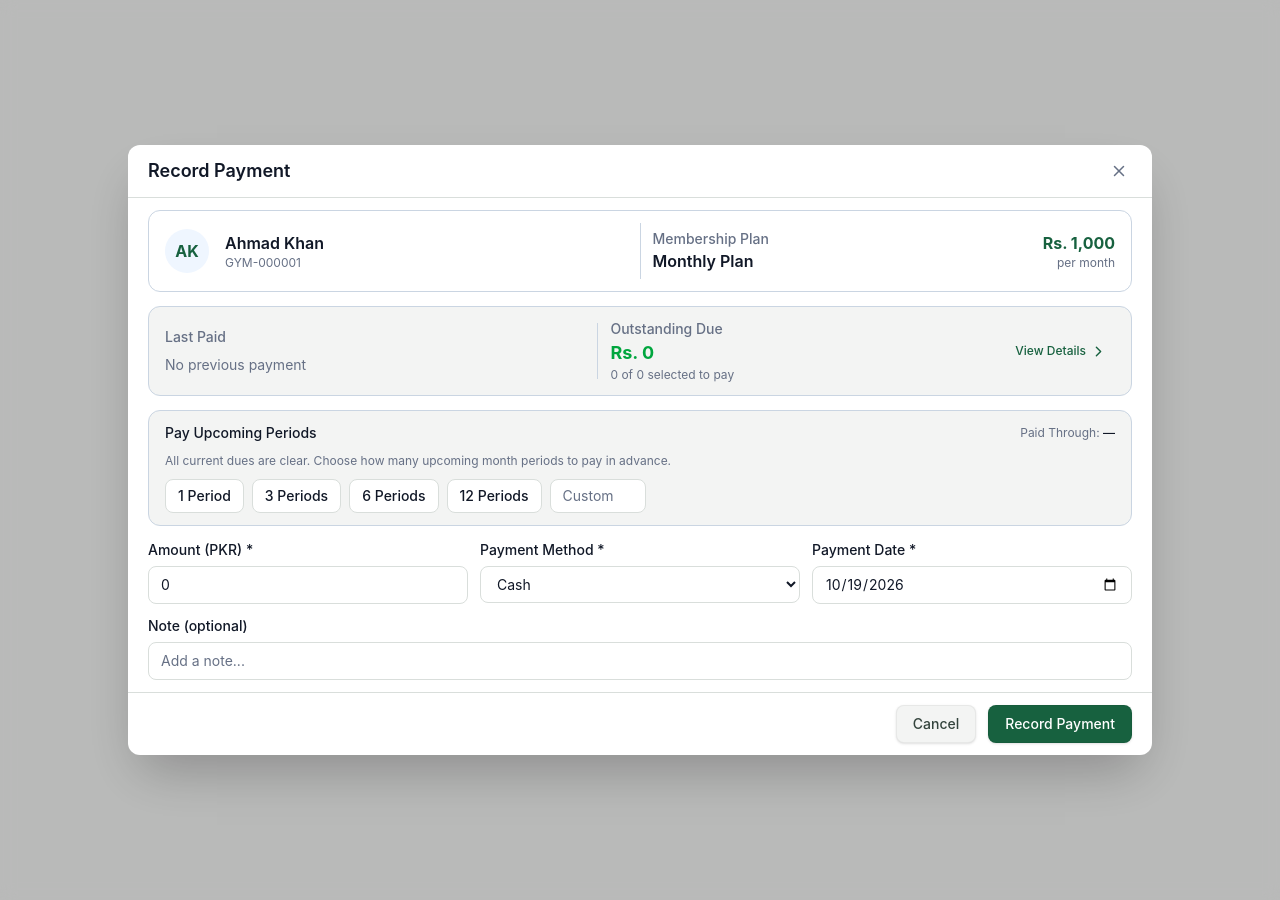
it: RecordPaymentModal period selection › offers upcoming periods to a fully paid member and records the advance payment
The image size is (1280, 900).
Expected: the text "Pay Upcoming Periods" is shown, [165, 423, 317, 443]
Expected: the button "Record Payment" is enabled, [988, 705, 1132, 743]
Click the button "1 Period" at (204, 496), box [165, 479, 244, 513]
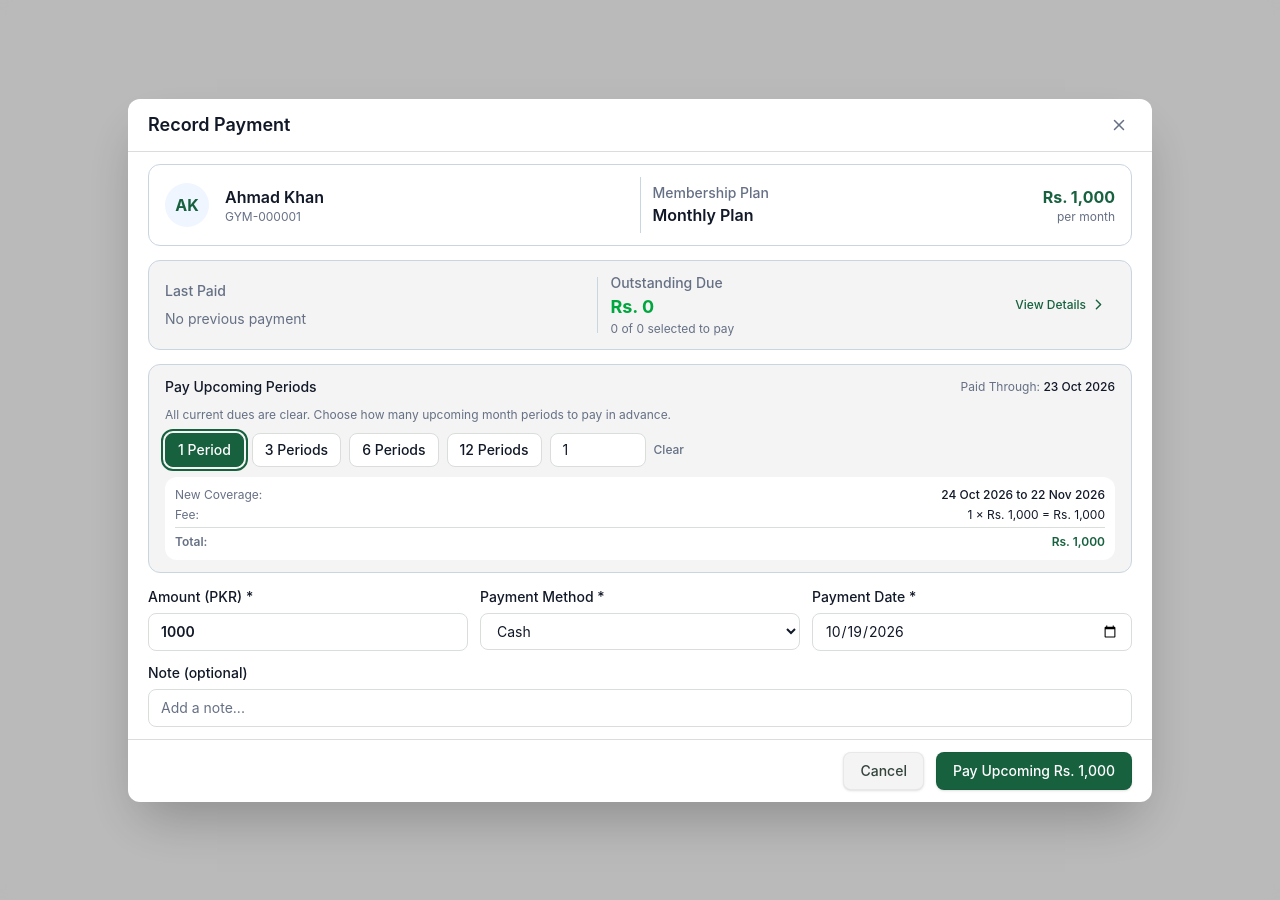
Result: the text "1 × Rs. 1,000 = Rs. 1,000" is shown at [967, 506, 1105, 522]
Click the button "3 Periods" at (296, 450), box [252, 432, 341, 466]
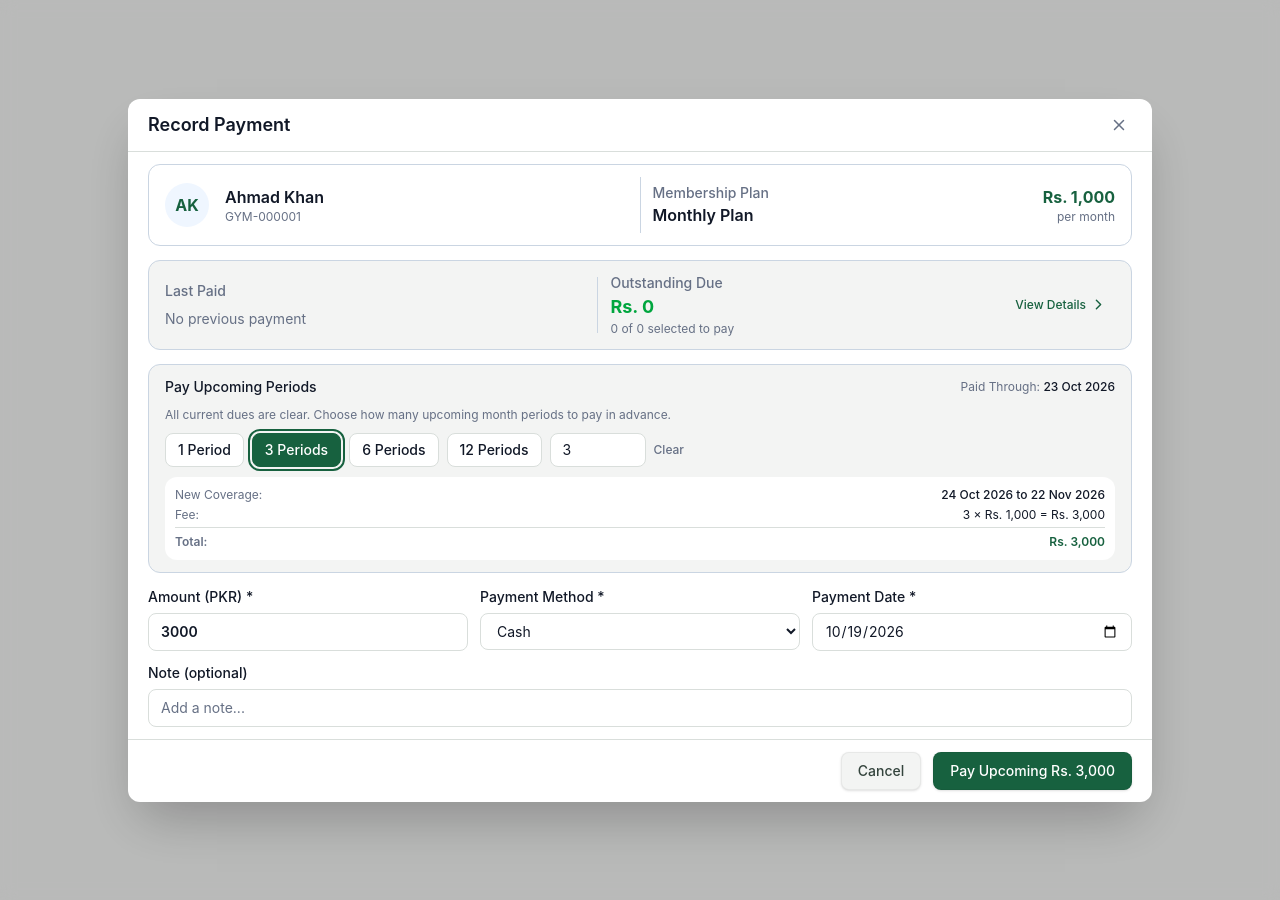
Result: the text "3 × Rs. 1,000 = Rs. 3,000" is shown at [963, 506, 1105, 522]
Result: the number field labelled "Amount (PKR) *" holds "3000" at [148, 612, 468, 650]
Click the button "Pay Upcoming Rs. 3,000" at (1033, 770), box [933, 752, 1132, 790]
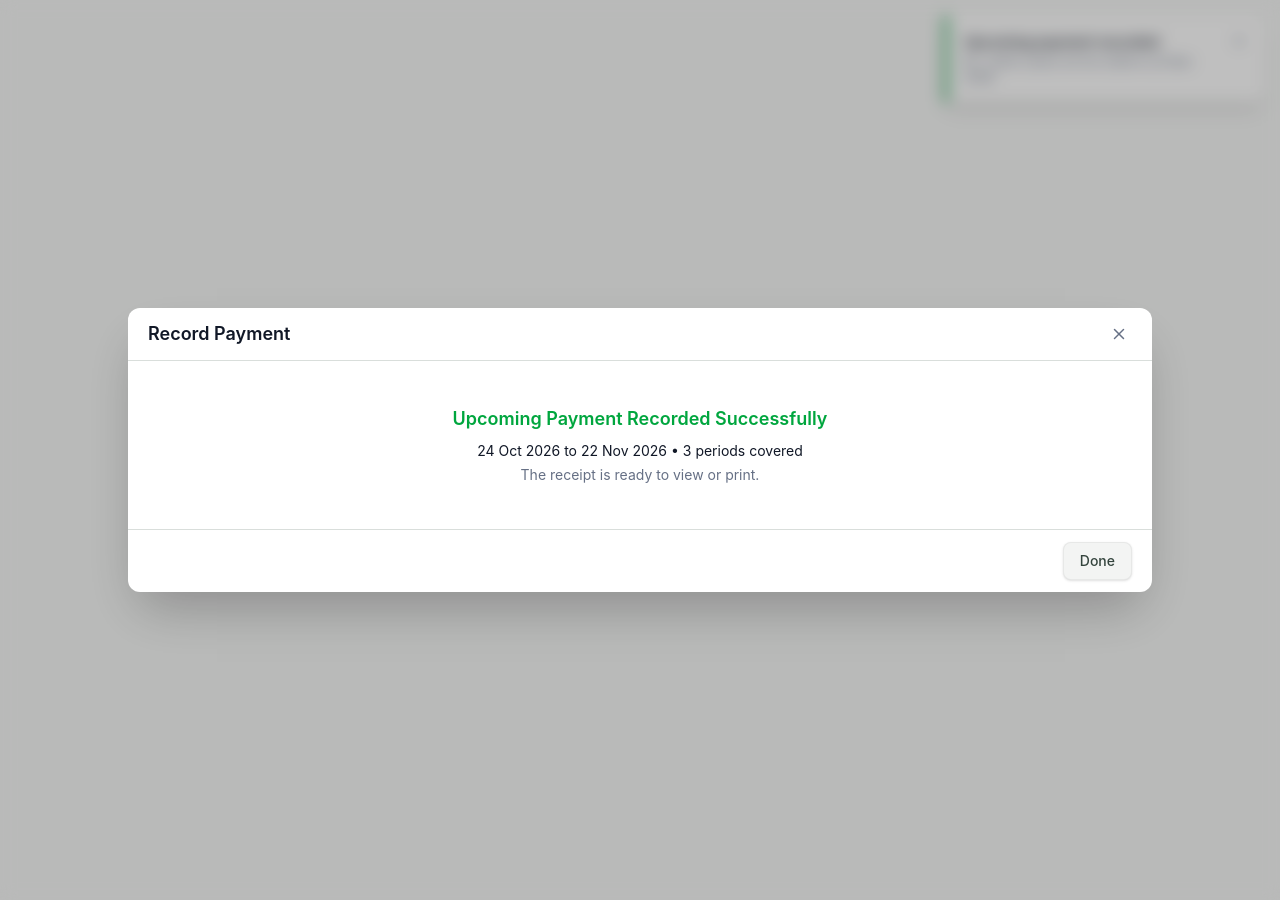
Result: the text "Upcoming Payment Recorded Successfully" is shown at [453, 408, 827, 429]
